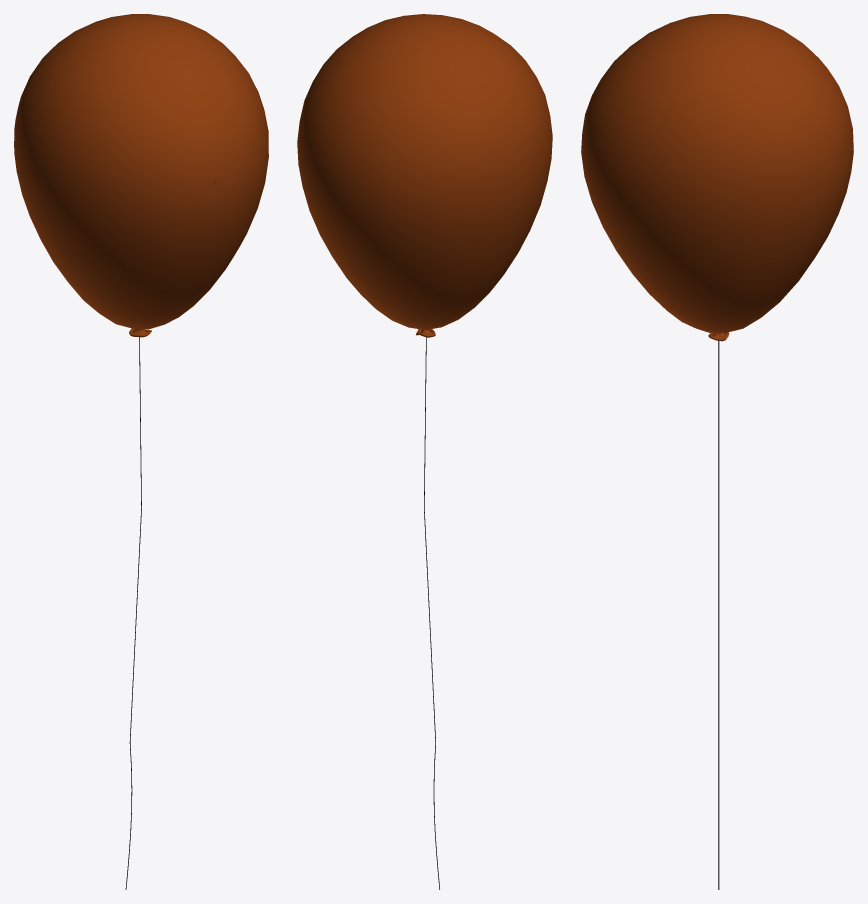
Rendered from Ballon_gold.fbx.
3 views of the same model, side by side, from view 1: azimuth 30°, elevation 25°; view 2: azimuth 150°, elevation 25°; view 3: azimuth 270°, elevation 25° (orthographic).
Parts seen in each view (by area): view 1: ballon_gold; view 2: ballon_gold; view 3: ballon_gold.
Part boxes in pixels (x1,y1,x2,y2): ballon_gold: [14, 14, 268, 889]; ballon_gold: [297, 14, 552, 889]; ballon_gold: [581, 14, 853, 889].
Size of the model in its own units: 24.62 by 92.95 by 26.37.
